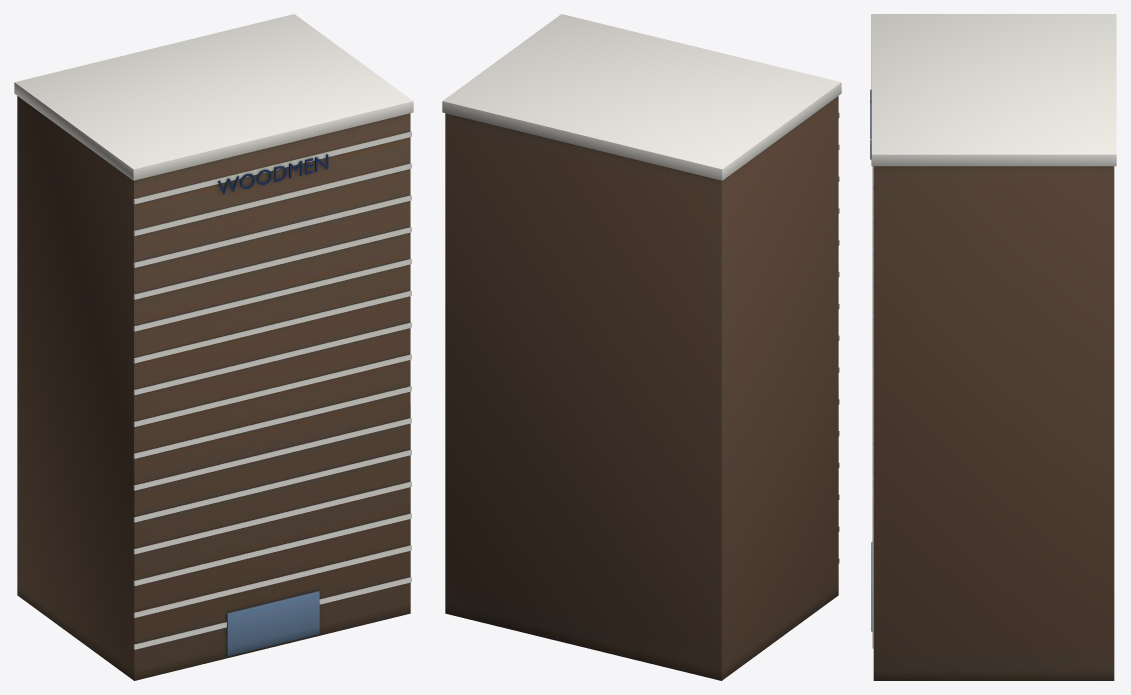
The model's file is woodmen.glb.
3 renders of one model, left to right at view 1: azimuth 30°, elevation 25°; view 2: azimuth 150°, elevation 25°; view 3: azimuth 270°, elevation 25°, orthographic. The views are drawn at different scales.
Parts seen in each view (by area): view 1: woodmen; view 2: woodmen; view 3: woodmen.
Boxes of the visible parts, box(x1,y1,x2,y2) form: woodmen: box(14, 14, 413, 680); woodmen: box(442, 14, 841, 680); woodmen: box(870, 14, 1116, 680).
Bounding box in the file's own units: 30.4 × 53.2 × 22.5.
1 material, 1 textured.
